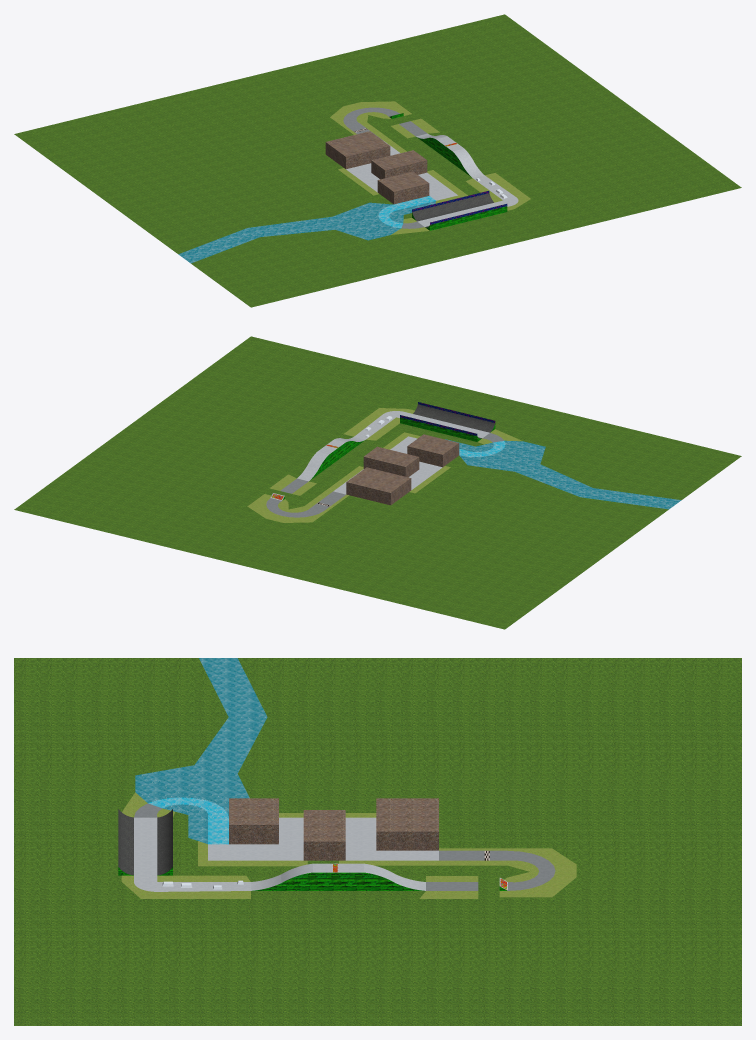
3 views of the same model, one above another, from view 1: azimuth 30°, elevation 25°; view 2: azimuth 150°, elevation 25°; view 3: azimuth 270°, elevation 25° (orthographic). The views are drawn at different scales.
Visible parts, largest first — view 1: race-SKP--OutofBounds, race-SKP--Granite_Brown, race-SKP--Water_Pool, race-SKP--OffRoad, race-SKP--Road1, race-SKP--Wall, race-SKP--Road, race-SKP--Granite_Dark_Gray, race-SKP--Material1, race-SKP--Granite_Dark_Gray1; view 2: race-SKP--OutofBounds, race-SKP--Granite_Brown, race-SKP--Water_Pool, race-SKP--OffRoad, race-SKP--Road1, race-SKP--Road, race-SKP--Wall, race-SKP--Granite_Dark_Gray; view 3: race-SKP--OutofBounds, race-SKP--Water_Pool, race-SKP--Road1, race-SKP--Granite_Brown, race-SKP--OffRoad, race-SKP--Road, race-SKP--Wall, race-SKP--Granite_Dark_Gray, race-SKP--Material1.
Part boxes in pixels (box(x1,y1,x2,y2)): race-SKP--OutofBounds: box(14, 14, 741, 307); race-SKP--Granite_Brown: box(325, 131, 429, 204); race-SKP--Water_Pool: box(178, 201, 435, 263); race-SKP--OffRoad: box(330, 101, 530, 234); race-SKP--Road1: box(346, 133, 518, 226); race-SKP--Wall: box(389, 113, 507, 230); race-SKP--Road: box(343, 107, 427, 228); race-SKP--Granite_Dark_Gray: box(412, 193, 493, 227); race-SKP--Material1: box(378, 196, 435, 228); race-SKP--Granite_Dark_Gray1: box(412, 191, 507, 224); race-SKP--OutofBounds: box(14, 336, 741, 629); race-SKP--Granite_Brown: box(346, 434, 459, 505); race-SKP--Water_Pool: box(445, 439, 681, 509); race-SKP--OffRoad: box(247, 408, 522, 522); race-SKP--Road1: box(297, 411, 489, 494); race-SKP--Road: box(266, 433, 503, 517); race-SKP--Wall: box(282, 417, 495, 500); race-SKP--Granite_Dark_Gray: box(413, 404, 494, 438); race-SKP--OutofBounds: box(14, 658, 741, 1025); race-SKP--Water_Pool: box(135, 658, 267, 843); race-SKP--Road1: box(134, 817, 438, 891); race-SKP--Granite_Brown: box(229, 798, 438, 860); race-SKP--OffRoad: box(121, 792, 576, 898); race-SKP--Road: box(134, 803, 555, 890); race-SKP--Wall: box(118, 867, 507, 890); race-SKP--Granite_Dark_Gray: box(118, 809, 172, 875); race-SKP--Material1: box(148, 797, 228, 844).
Bounding box in the file's own units: 130113 × 4324 × 108810.
16 materials, 16 textured.
